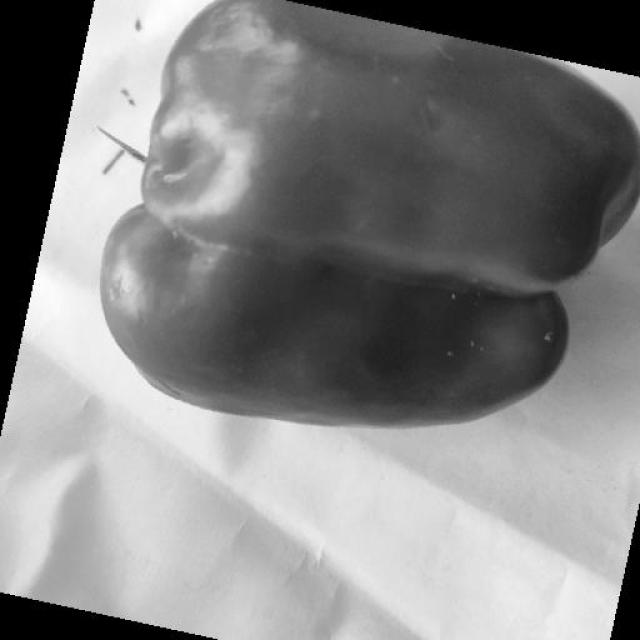Fresh_Capsicum: (145, 1, 629, 462)
